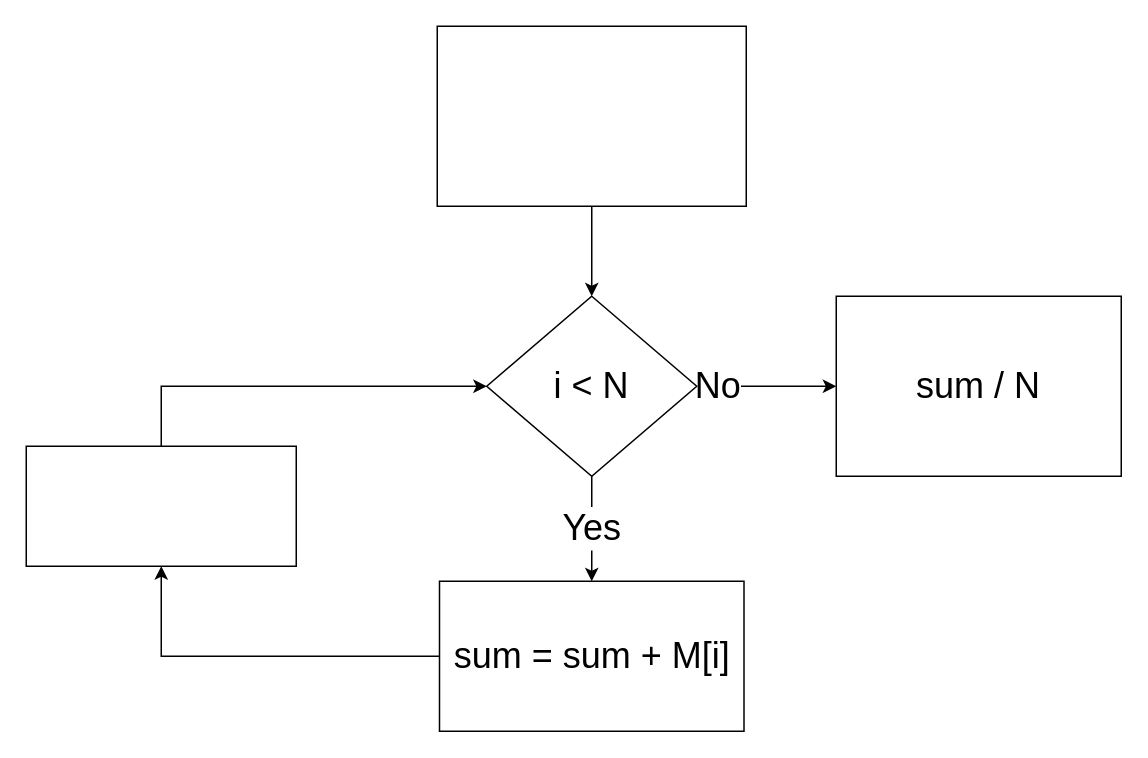
This 1148x758 diagram has some shape labels left out. The shapes that lost their labels are listed below. From the top down, each one's centre as x and y in pixels, then its label:
the point at 591,115: массив M размерность N sum = 0 i = 0
the point at 160,505: i = i + 1
